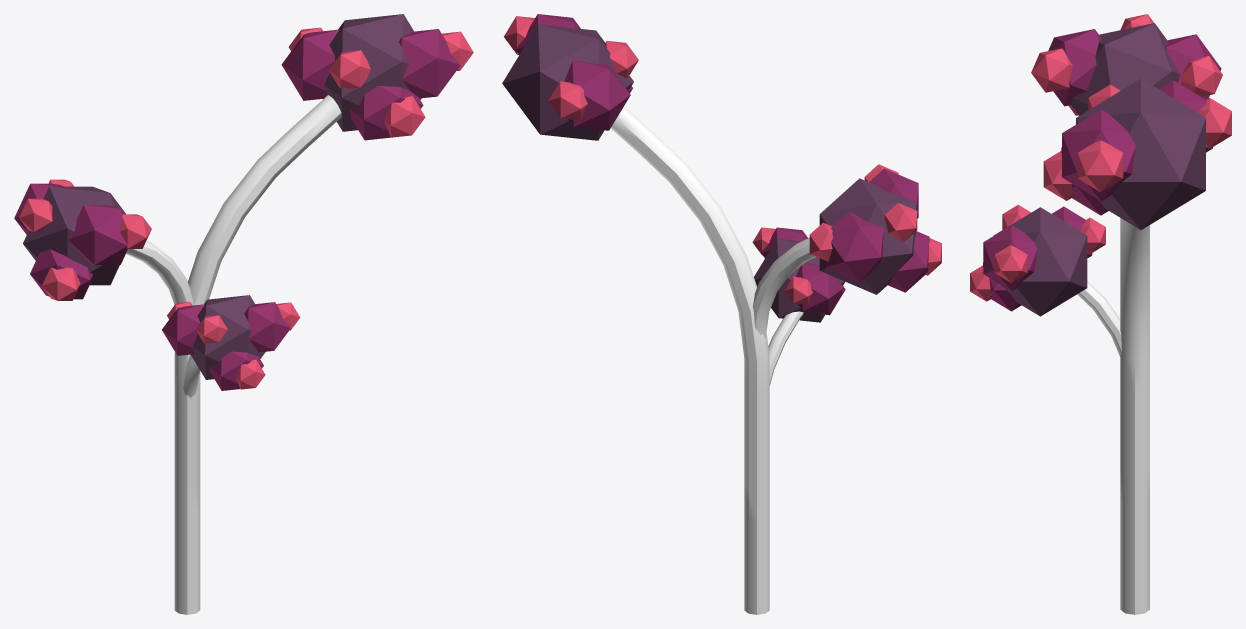
File: Flower_3_bloom.obj
3 views of the same model, side by side, from view 1: azimuth 30°, elevation 25°; view 2: azimuth 150°, elevation 25°; view 3: azimuth 270°, elevation 25° (orthographic). The views are drawn at different scales.
Parts seen in each view (by area): view 1: Branch1, Platonic_1, Platonic, Platonic.8_1, Platonic_2, Platonic.8, Platonic.6_1, Platonic.7_1, Platonic.8_2, Branch2, Platonic.6_2, Platonic.7 (+9 smaller); view 2: Branch1, Platonic_1, Platonic, Platonic.6, Platonic.6_1, Branch2, Platonic_2, Platonic.6_2, Platonic.7, Platonic.4_1, Platonic.8, Platonic.3 (+6 smaller); view 3: Branch1, Platonic_1, Platonic_2, Platonic, Platonic.8_1, Platonic.8, Platonic.2_1, Platonic.8_2, Platonic.2, Platonic.4, Platonic.6, Platonic.4_1 (+11 smaller).
Boxes of the visible parts, <box> form: Branch1: <box>174,95,341,614</box>; Platonic_1: <box>323,14,421,131</box>; Platonic: <box>23,186,125,285</box>; Platonic.8_1: <box>399,29,460,98</box>; Platonic_2: <box>191,295,265,379</box>; Platonic.8: <box>68,205,127,264</box>; Platonic.6_1: <box>281,29,339,100</box>; Platonic.7_1: <box>350,85,423,140</box>; Platonic.8_2: <box>244,302,290,352</box>; Branch2: <box>126,241,193,305</box>; Platonic.6_2: <box>162,304,204,355</box>; Platonic.7: <box>30,249,93,299</box>; Branch1: <box>611,106,769,614</box>; Platonic_1: <box>502,24,633,140</box>; Platonic: <box>819,178,916,294</box>; Platonic.6: <box>825,212,883,282</box>; Platonic.6_1: <box>564,60,630,130</box>; Branch2: <box>752,237,816,338</box>; Platonic_2: <box>754,238,844,322</box>; Platonic.6_2: <box>796,263,843,313</box>; Platonic.7: <box>888,231,929,292</box>; Platonic.4_1: <box>548,81,587,120</box>; Platonic.8: <box>869,168,918,218</box>; Platonic.3: <box>884,203,917,241</box>; Branch1: <box>1120,218,1149,614</box>; Platonic_1: <box>1076,78,1205,229</box>; Platonic_2: <box>993,207,1087,316</box>; Platonic: <box>1070,23,1180,115</box>; Platonic.8_1: <box>1062,109,1135,201</box>; Platonic.8: <box>1048,29,1101,106</box>; Platonic.2_1: <box>1077,140,1123,192</box>; Platonic.8_2: <box>983,225,1037,291</box>; Platonic.2: <box>1031,48,1072,92</box>; Platonic.4: <box>1180,56,1222,96</box>; Platonic.6: <box>1165,34,1221,99</box>; Platonic.4_1: <box>1199,98,1231,148</box>.
Size of the model in its own units: 379 by 455 by 174.
